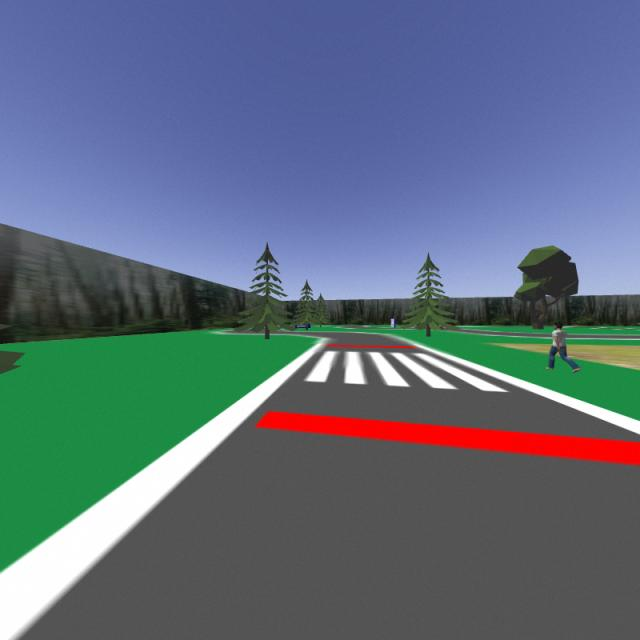pedestrian: (547, 316, 581, 379)
